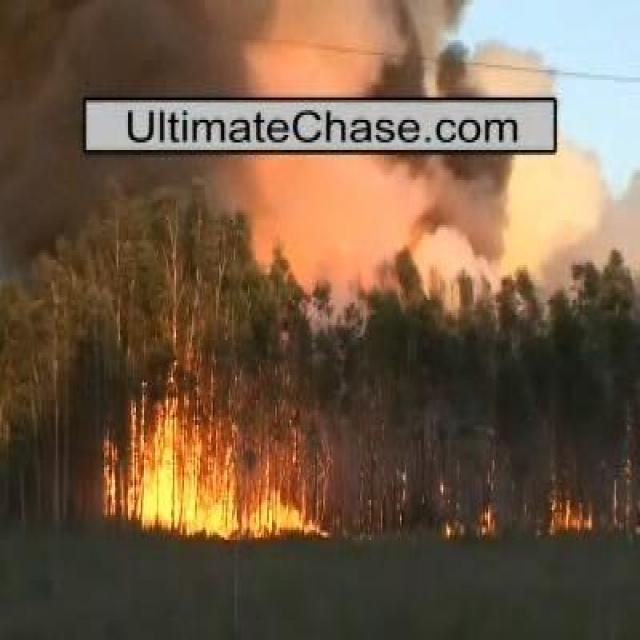fire: (120, 428, 250, 538)
smoke: (54, 0, 475, 96), (263, 162, 545, 256)
